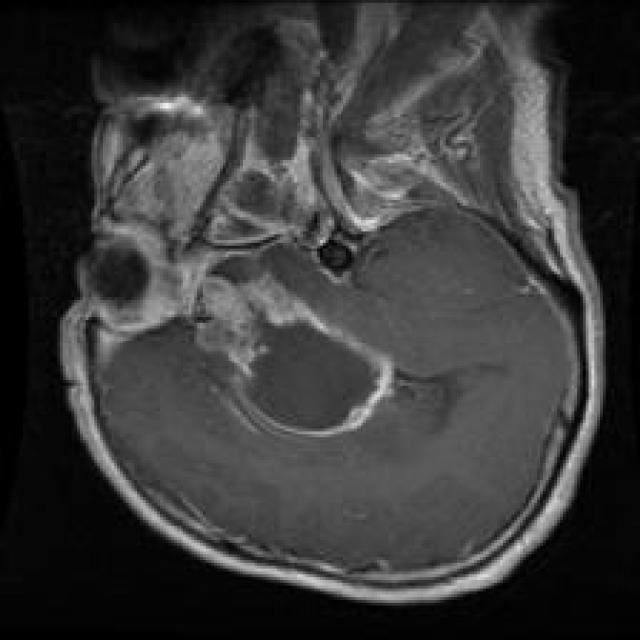glioma_tumor: (201, 284, 403, 441)
